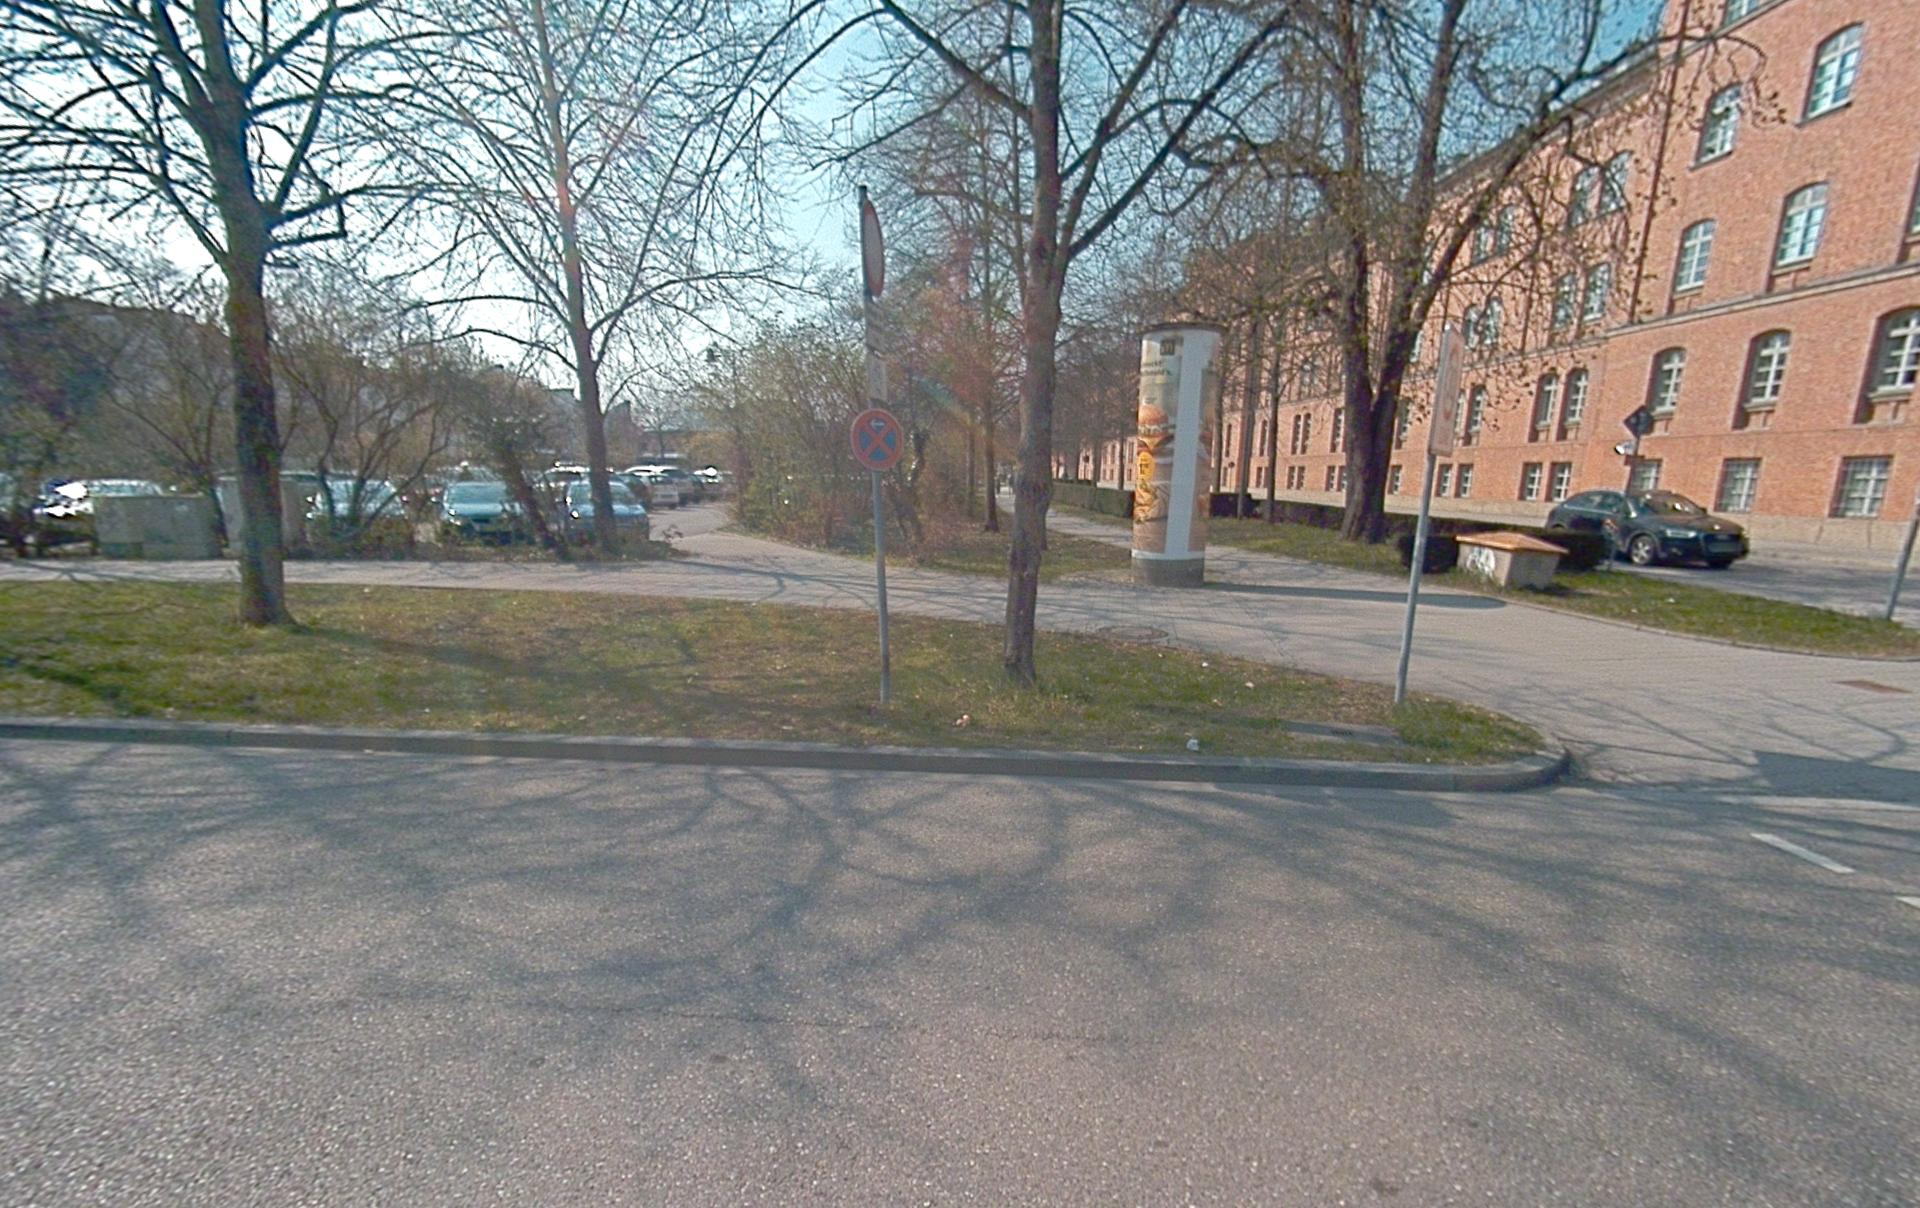car: (1544, 488, 1750, 569), (552, 479, 651, 546), (440, 480, 527, 544), (306, 476, 408, 530), (33, 477, 164, 519), (621, 465, 698, 508)
traffic sign: (850, 408, 904, 472)
